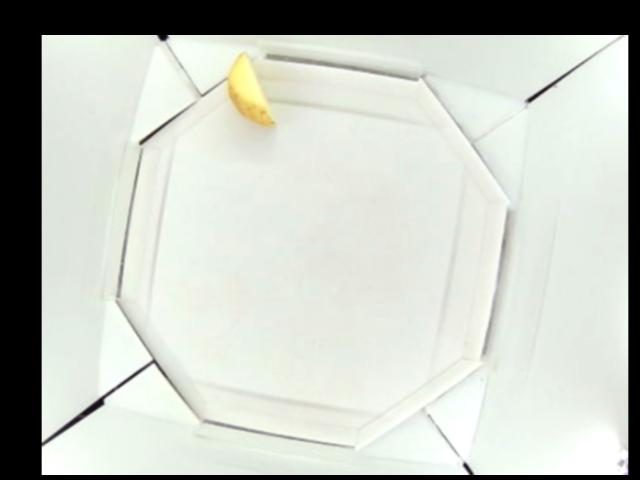Potato: (228, 53, 277, 127)
